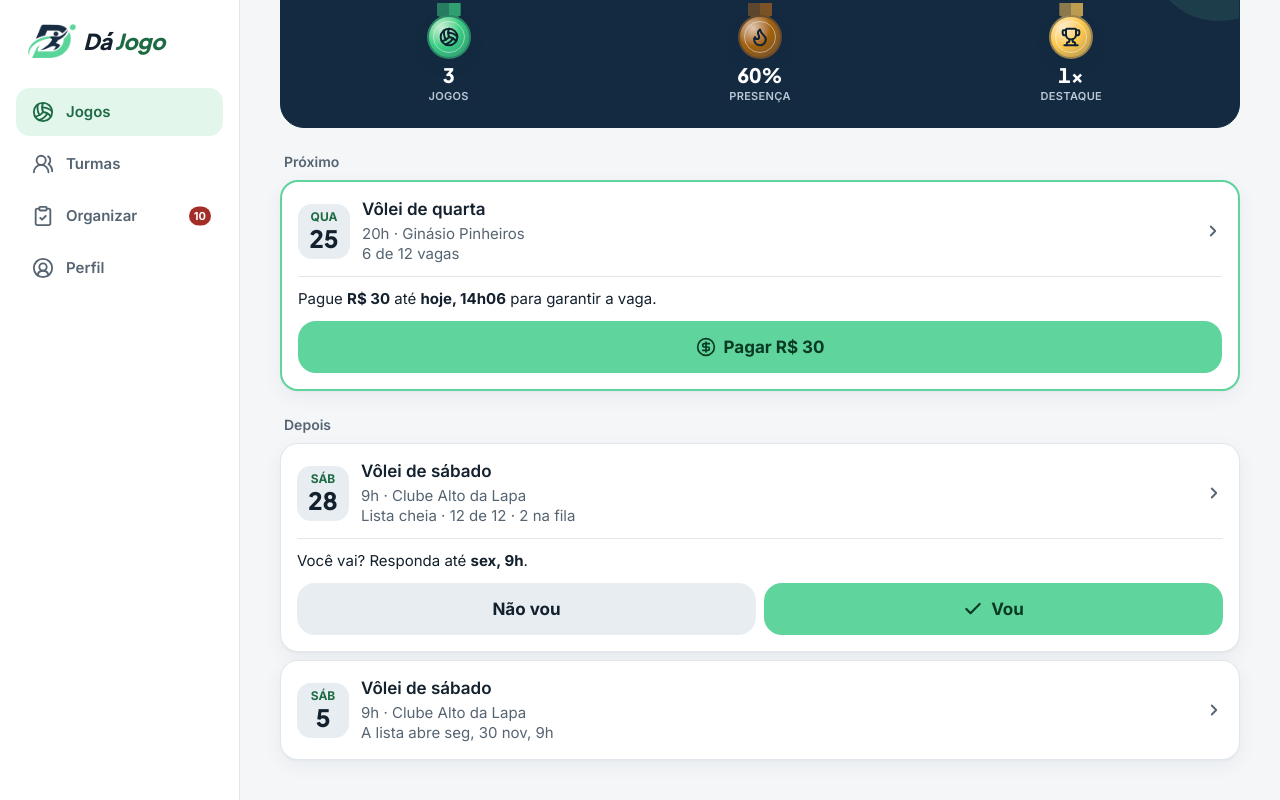
Test case: 3.2 Jogos › responde "Vou" sem sair da tela e dá para mudar
The image size is (1280, 800).
(page scrolled)
Click the button "Vou" at (994, 609), box [764,583,1223,635]
(page scrolled)
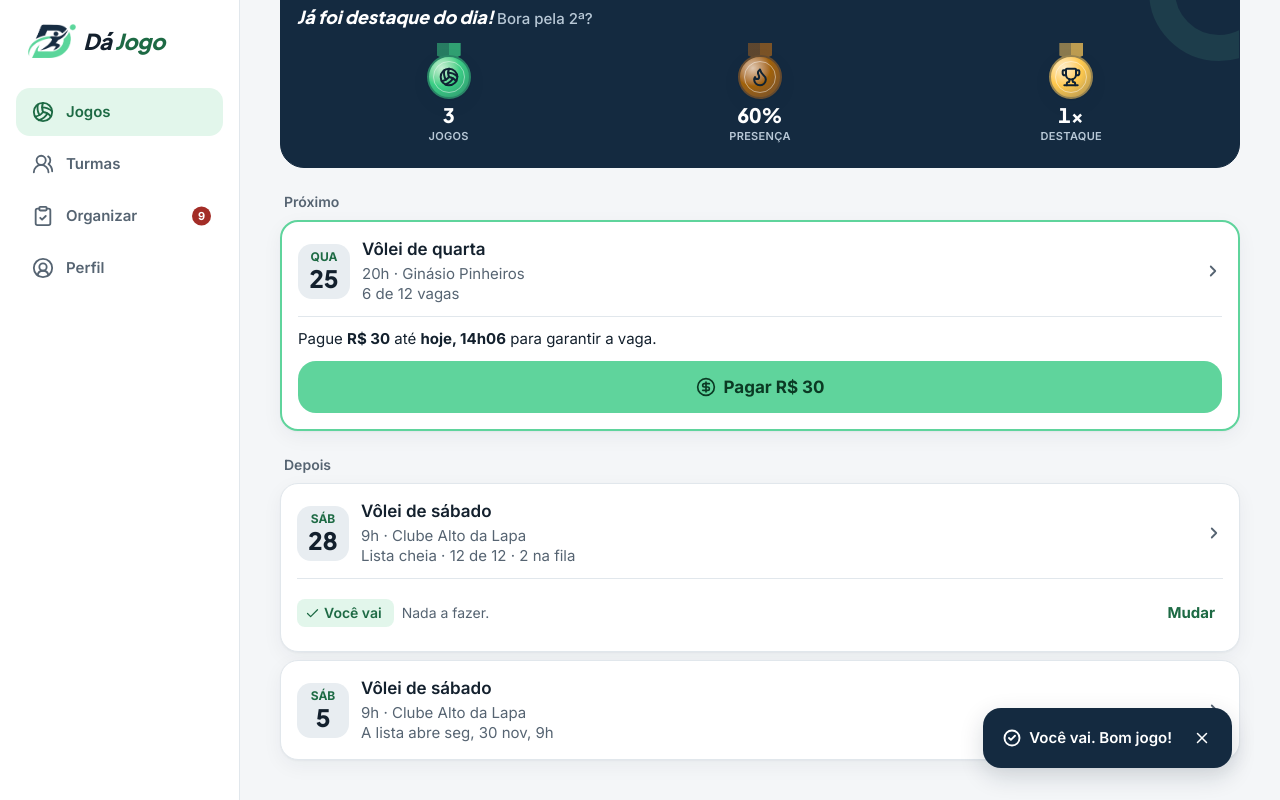
Check: the text "Você vai" is shown, box [297,599,394,627]
Click the button "Mudar" at (1191, 613), box [1159,591,1223,635]
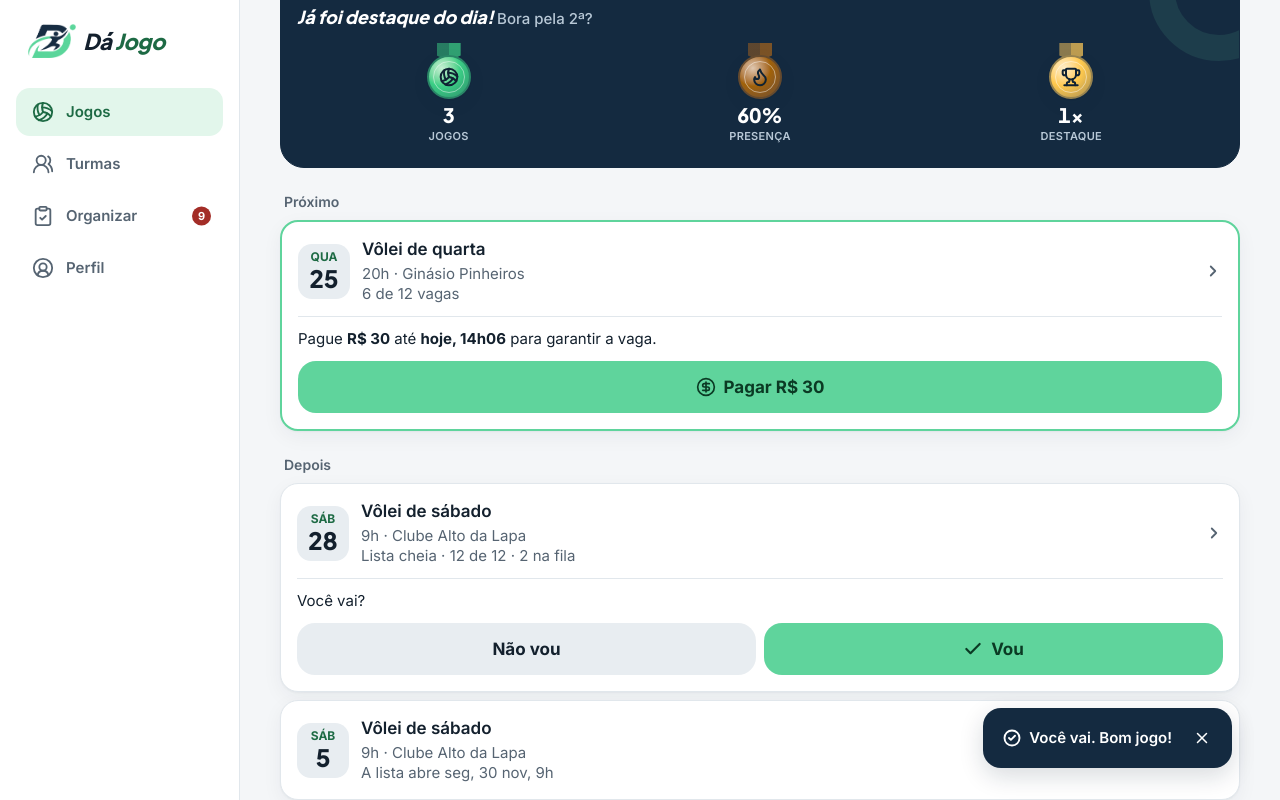
Check: the button "Não vou" is shown, box [297,623,756,675]
